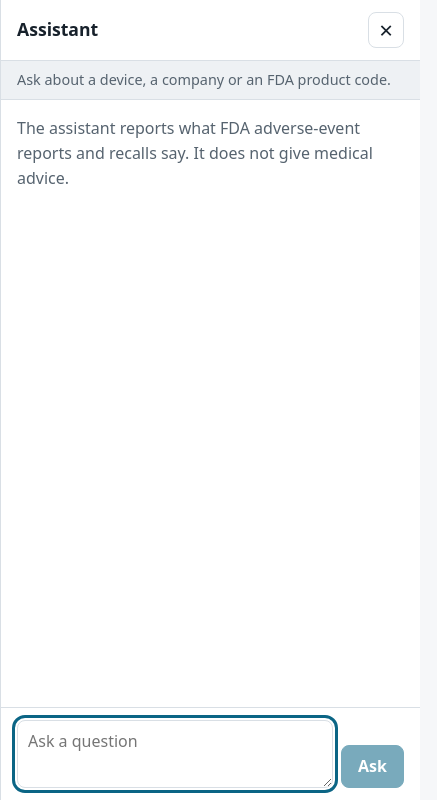
statuses from /api/answer (handover §5) › need_device: the text, and the focus goes back to the input
Type "How many deaths were reported?" into the text box named "Your question" at (175, 754), box x1=17 y1=720 x2=333 y2=788
Then press Enter
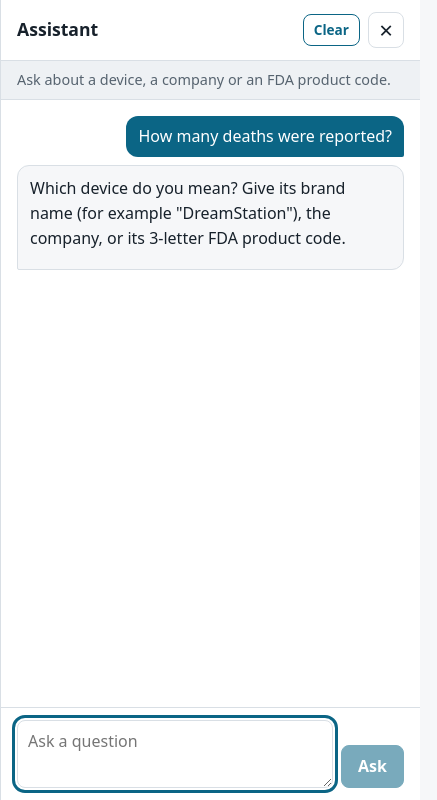
Check: the element with class "reply" shows "Which device do you mean?", box x1=30 y1=177 x2=346 y2=249
